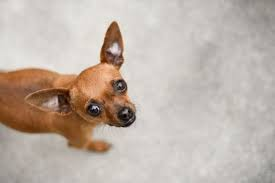Bulldog: (6, 13, 149, 167)
